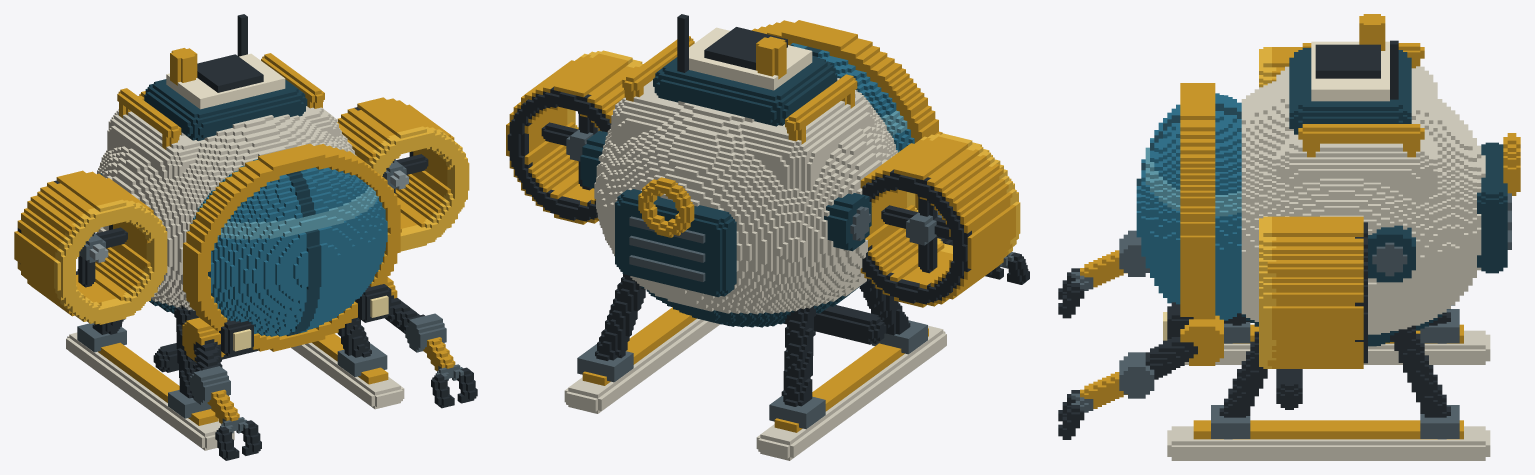
Rendered from submersible.glb.
3 renders of one model, left to right at view 1: azimuth 30°, elevation 25°; view 2: azimuth 150°, elevation 25°; view 3: azimuth 270°, elevation 25°, orthographic. The views are drawn at different scales.
Visible parts, largest first — view 1: submersible; view 2: submersible; view 3: submersible.
Part boxes in pixels (x1,y1,x2,y2): submersible: [14, 14, 477, 460]; submersible: [506, 14, 1029, 460]; submersible: [1058, 14, 1520, 460].
Bounding box in the file's own units: 4.41 × 3.39 × 3.71.
